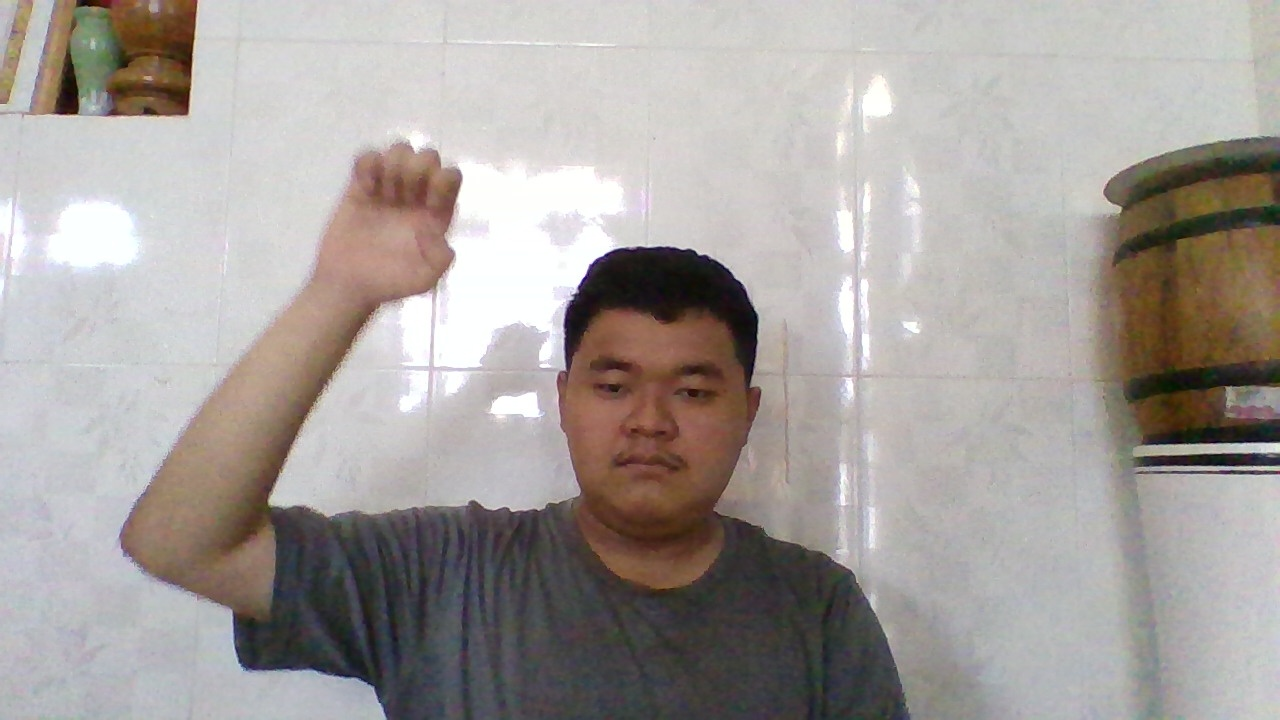E: (331, 133, 469, 307)
